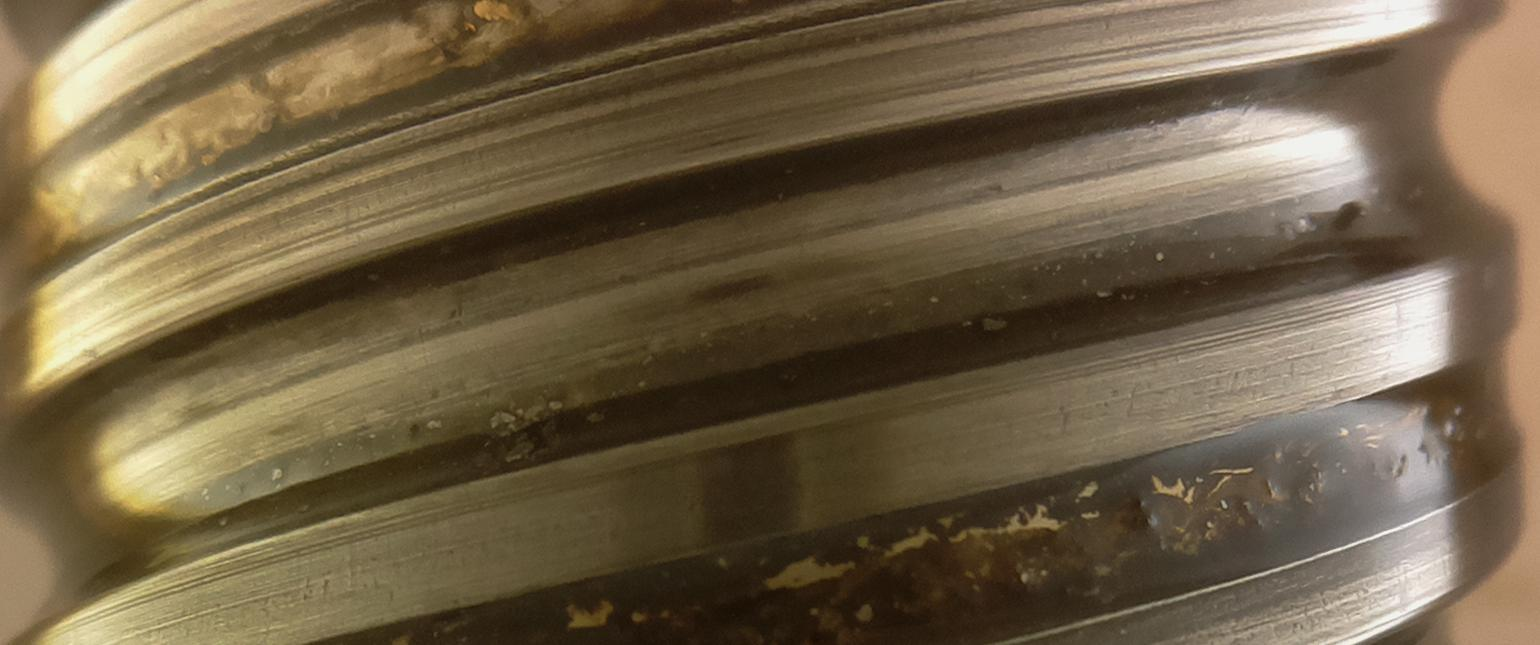pitting: (509, 400, 560, 461)
